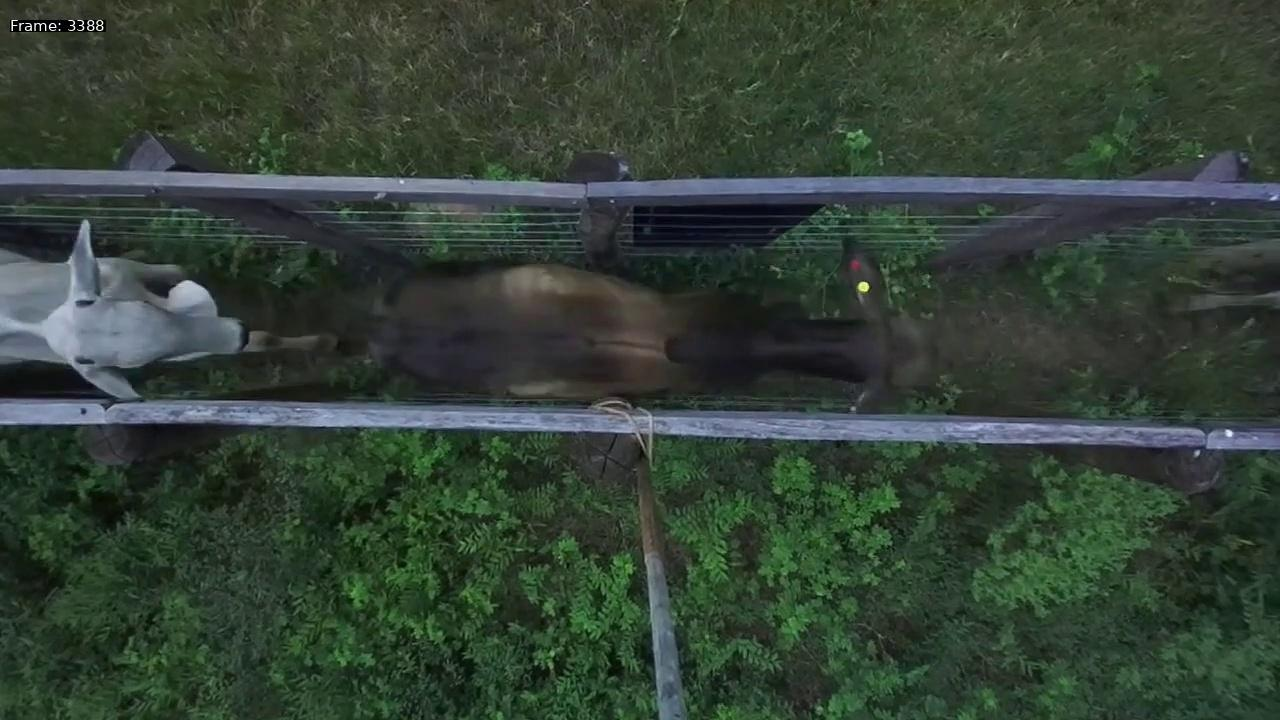cattle: (361, 228, 951, 414)
